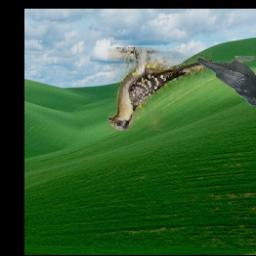Crow: (196, 56, 256, 106)
Cuckoo: (108, 48, 213, 132)
